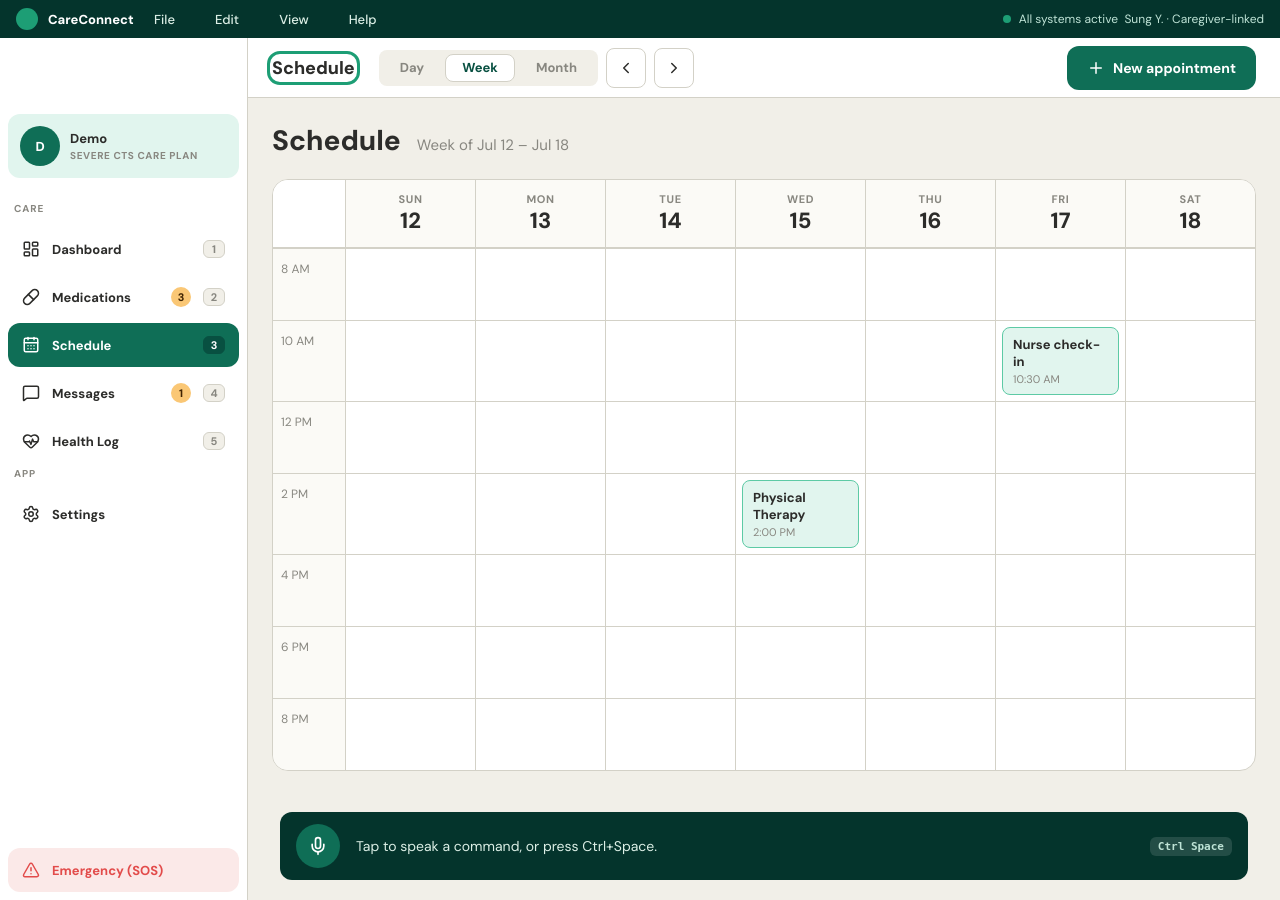
voice commands › sets the date and time fields by voice
The image size is (1280, 900).
Expected: the 1st heading "Schedule" is shown, top-left (272, 56), bottom-right (355, 80)
Click the button named "Start voice command" at (318, 846), box top-left (296, 824), bottom-right (340, 868)
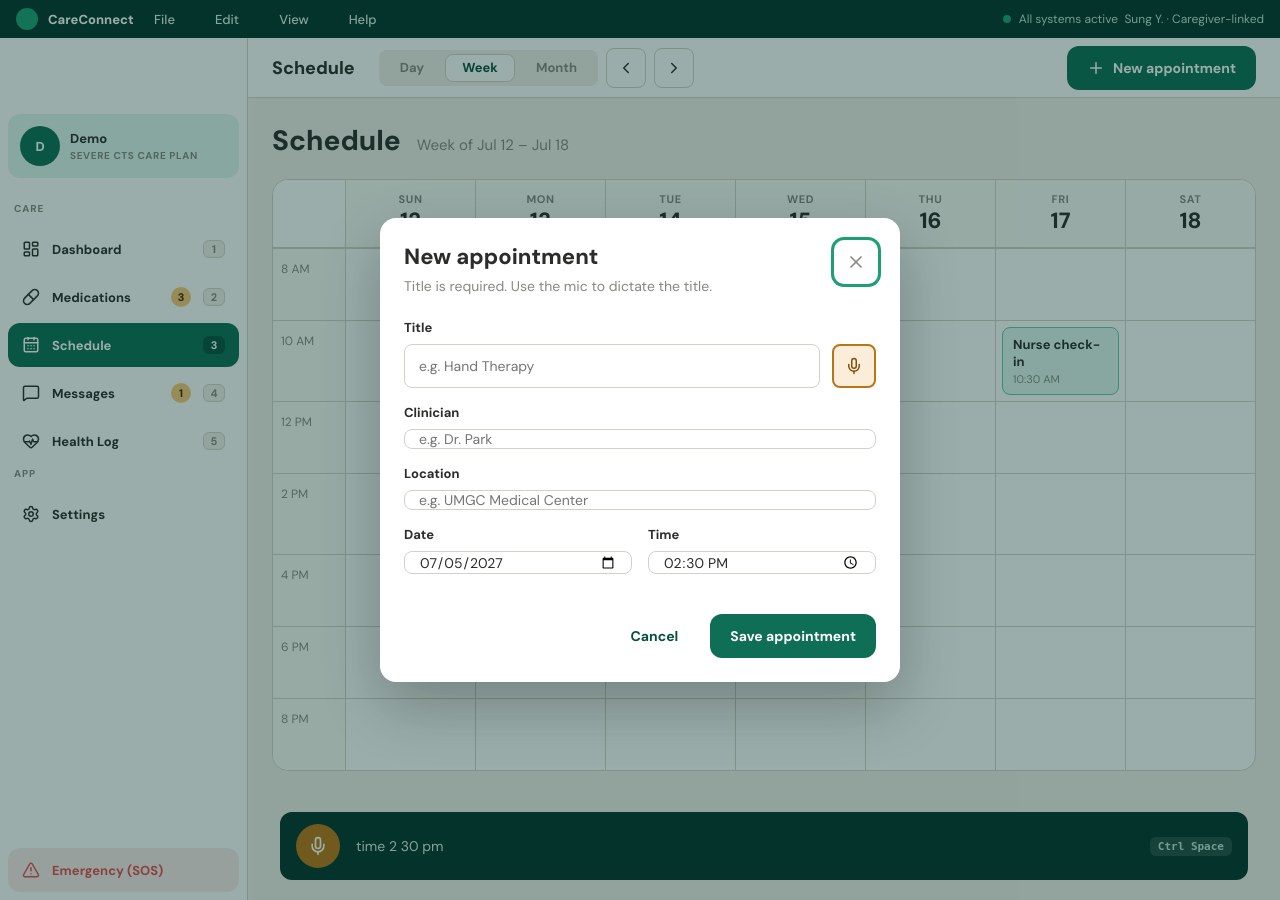
Expected: the dialog "New appointment" is shown, top-left (380, 218), bottom-right (900, 682)
Expected: the date field labelled "Date" holds "2027-07-05", top-left (404, 551), bottom-right (632, 574)
Expected: the time field labelled "Time" holds "14:30", top-left (648, 551), bottom-right (876, 574)
